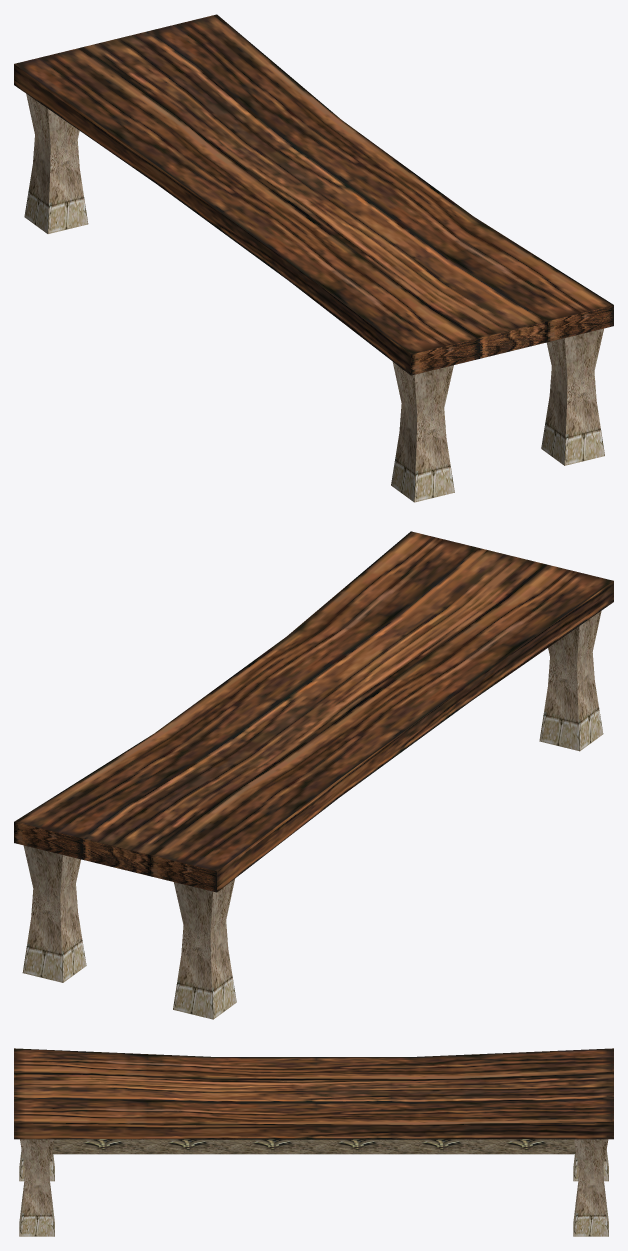
Rendered from INST_RIVENDELL_BENCH.fbx.
3 views of the same model, one above another, from view 1: azimuth 30°, elevation 25°; view 2: azimuth 150°, elevation 25°; view 3: azimuth 270°, elevation 25° (orthographic). The views are drawn at different scales.
Visible parts, largest first — view 1: INST_RIVENDELL_BENCH; view 2: INST_RIVENDELL_BENCH; view 3: INST_RIVENDELL_BENCH.
Part boxes in pixels (x1,y1,x2,y2): INST_RIVENDELL_BENCH: (14,14,613,502); INST_RIVENDELL_BENCH: (14,531,613,1019); INST_RIVENDELL_BENCH: (14,1048,613,1236).
Size of the model in its own units: 6000 by 4305 by 20321.
Materials: 3 (3 with a texture image).
